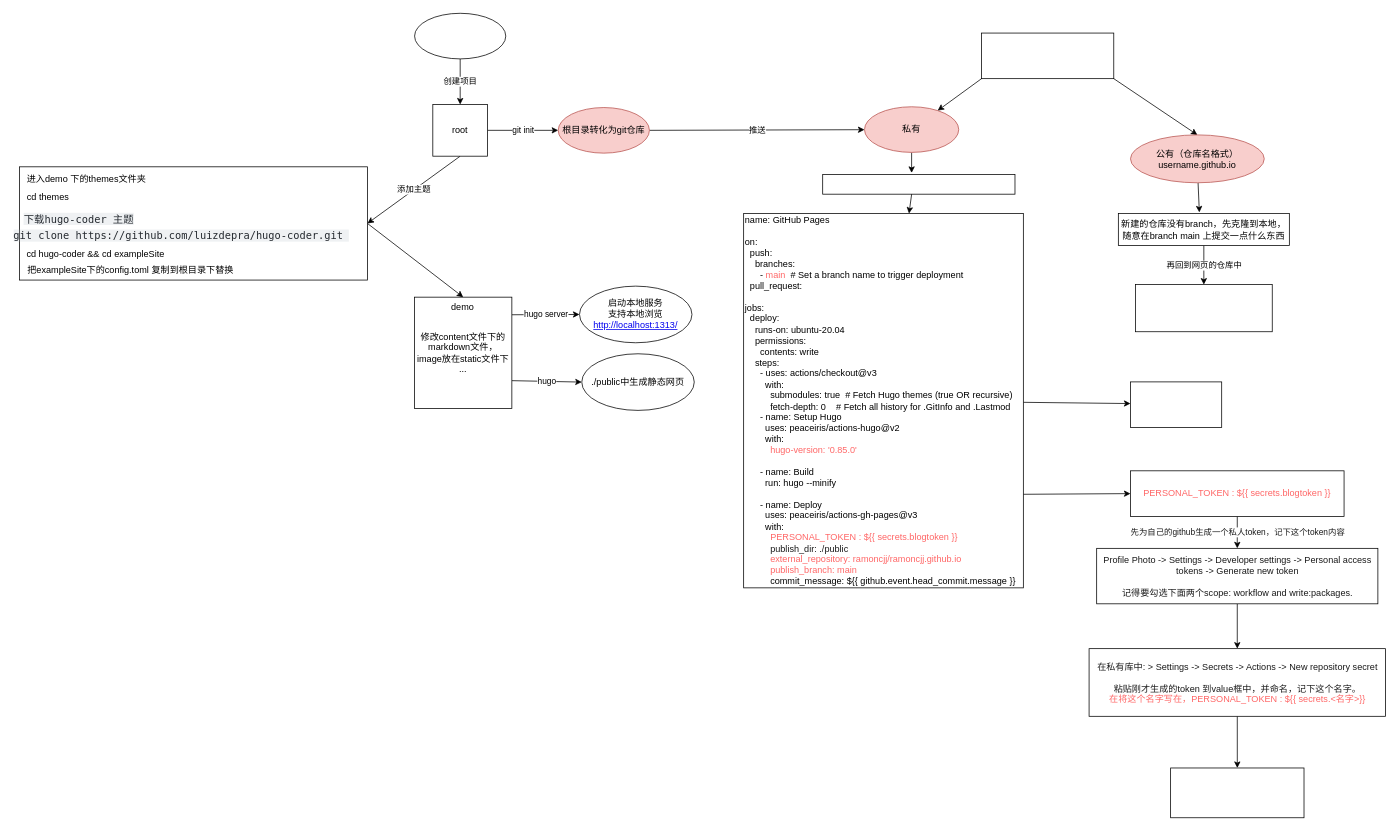
The diagram is 1398 pixels wide and 831 high, and some of its shapes have lost their labels. The shapes that lost their labels are listed below. From the top down, each one's box as (x1, y1, x2, y2) in pixels, then its label:
(414, 13, 506, 59): hugo new site demo
(981, 32, 1114, 79): 创建两个仓库 1.私有，用于博客源码仓库 2.公开，用于生成的静态网页
(822, 174, 1015, 194): 根目录下创建 .github/workflows/main.yml
(1135, 284, 1272, 332): setting ->Pages source: Deploy from a branch Branch: root save
(1130, 381, 1222, 428): 注意红色处修改为当前信息
(1170, 767, 1304, 818): 部署完毕，接下来所修改的内容推送到私有仓库后，将自动部署到 共有仓库的gitpages页面
